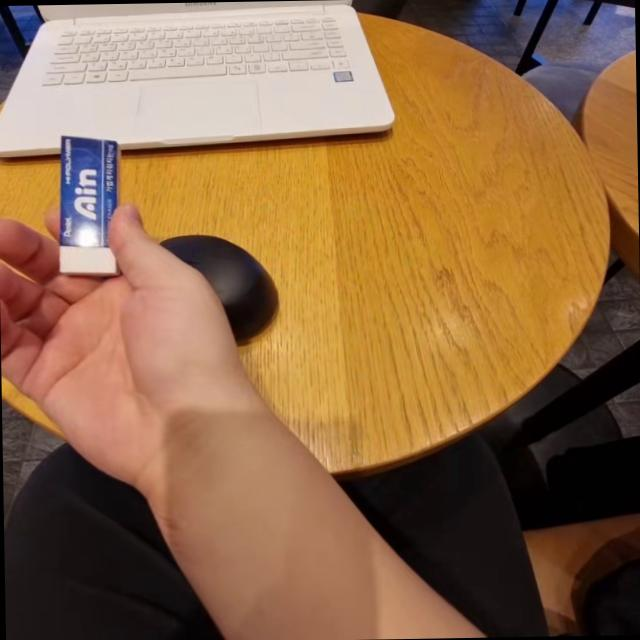eraser: (44, 127, 120, 269)
grab_eraser: (0, 108, 268, 498)
hand: (0, 203, 259, 467)
